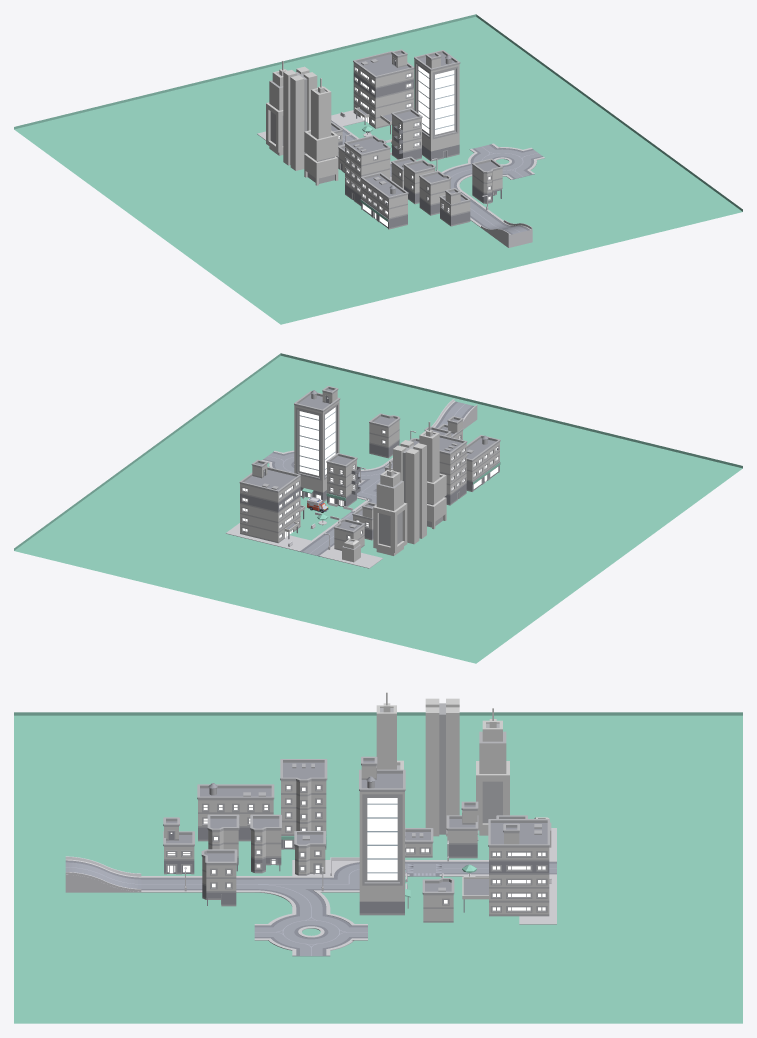
The model's file is main.glb.
3 views of the same model, one above another, from view 1: azimuth 30°, elevation 25°; view 2: azimuth 150°, elevation 25°; view 3: azimuth 270°, elevation 25° (orthographic). The views are drawn at different scales.
Parts seen in each view (by area): view 1: base floor, skyscraperC, large_buildingG, low_buildingC, low_buildingE, large_buildingE, large_buildingF, road_roundabout, large_buildingC, low_buildingF, small_buildingC, small_buildingC.001 (+4 smaller); view 2: base floor, large_buildingG, skyscraperC, low_buildingF, low_buildingE, low_buildingC, large_buildingE, large_buildingC, large_buildingF, small_buildingC, small_buildingB, road_straight.001 (+3 smaller); view 3: base floor, skyscraperC, large_buildingG, low_buildingE, road_roundabout, large_buildingE, low_buildingF, large_buildingF, road_curveIntersection, small_buildingC, road_slantCurve, small_buildingC.002 (+11 smaller).
Boxes of the visible parts, x1=… form: base floor: x1=14, y1=14, x2=742, y2=324; skyscraperC: x1=414, y1=50, x2=460, y2=161; large_buildingG: x1=353, y1=49, x2=414, y2=134; low_buildingC: x1=304, y1=78, x2=338, y2=185; low_buildingE: x1=283, y1=66, x2=317, y2=170; large_buildingE: x1=344, y1=135, x2=390, y2=205; large_buildingF: x1=360, y1=172, x2=408, y2=229; road_roundabout: x1=460, y1=143, x2=544, y2=179; large_buildingC: x1=391, y1=108, x2=422, y2=159; low_buildingF: x1=266, y1=61, x2=287, y2=155; small_buildingC: x1=472, y1=158, x2=503, y2=203; small_buildingC.001: x1=419, y1=170, x2=451, y2=215; base floor: x1=14, y1=353, x2=742, y2=663; large_buildingG: x1=239, y1=459, x2=305, y2=543; skyscraperC: x1=294, y1=386, x2=340, y2=502; low_buildingF: x1=373, y1=461, x2=407, y2=555; low_buildingE: x1=393, y1=440, x2=426, y2=544; low_buildingC: x1=419, y1=421, x2=446, y2=529; large_buildingE: x1=439, y1=434, x2=467, y2=505; large_buildingC: x1=326, y1=453, x2=360, y2=506; large_buildingF: x1=466, y1=435, x2=500, y2=491; small_buildingC: x1=369, y1=413, x2=400, y2=458; small_buildingB: x1=334, y1=518, x2=364, y2=550; road_straight.001: x1=298, y1=500, x2=376, y2=556; base floor: x1=14, y1=712, x2=742, y2=1023; skyscraperC: x1=359, y1=756, x2=410, y2=915; large_buildingG: x1=462, y1=819, x2=549, y2=916; low_buildingE: x1=425, y1=698, x2=459, y2=836; road_roundabout: x1=254, y1=908, x2=367, y2=956; large_buildingE: x1=280, y1=759, x2=327, y2=849; low_buildingF: x1=476, y1=708, x2=509, y2=835; large_buildingF: x1=197, y1=783, x2=274, y2=841; road_curveIntersection: x1=254, y1=876, x2=330, y2=908; small_buildingC: x1=201, y1=849, x2=237, y2=906; road_slantCurve: x1=65, y1=859, x2=141, y2=892; small_buildingC.002: x1=250, y1=814, x2=281, y2=873.
Size of the model in its own units: 19.29 by 4.2 by 19.29.
Materials: 33 (1 with a texture image).
